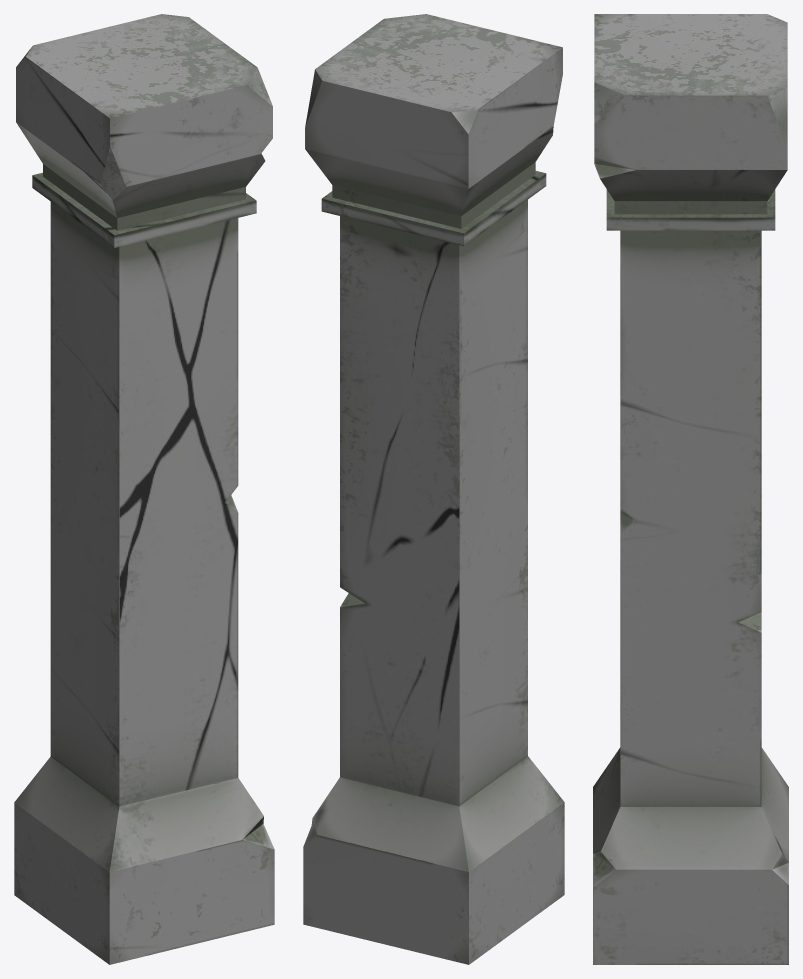
Rendered from Pillar2.fbx.
3 renders of one model, left to right at view 1: azimuth 30°, elevation 25°; view 2: azimuth 150°, elevation 25°; view 3: azimuth 270°, elevation 25°, orthographic. The views are drawn at different scales.
Visible parts, largest first — view 1: Pillar001; view 2: Pillar001; view 3: Pillar001.
Boxes of the visible parts, x1,y1,x2,y2 form: Pillar001: (14, 14, 274, 964); Pillar001: (303, 14, 564, 964); Pillar001: (593, 14, 788, 964).
Size of the model in its own units: 41.33 by 202 by 41.33.
Materials: 1 (1 with a texture image).
